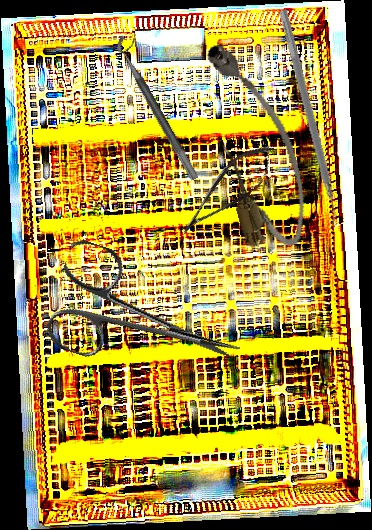Cannula: (193, 32, 318, 257)
Fixation Ring: (112, 29, 211, 182)
Iris Scissors: (38, 236, 257, 404)
Micro Scissor: (168, 133, 287, 248)
Spatula Surgical: (268, 8, 346, 231)
